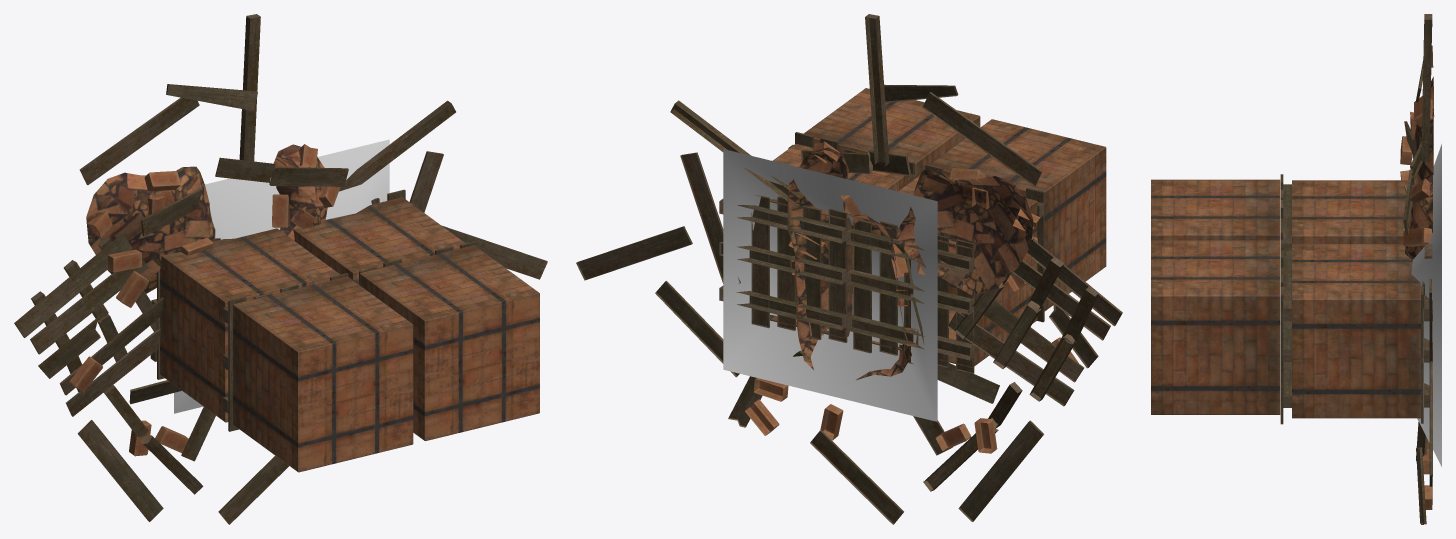
File: hd_envAM_064_BlocksBrick_03.glb
The picture shows the model from 3 angles, left to right: view 1: azimuth 30°, elevation 25°; view 2: azimuth 150°, elevation 25°; view 3: azimuth 270°, elevation 25°; orthographic projection.
Parts seen in each view (by area): view 1: set_0_group_2, set_0_group_1, set_0_group_0; view 2: set_0_group_1, set_0_group_2, set_0_group_0; view 3: set_0_group_2, set_0_group_1, set_0_group_0.
Part boxes in pixels (x1,y1,x2,y2): set_0_group_2: (150,189,539,472); set_0_group_1: (14,14,547,524); set_0_group_0: (174,139,389,413); set_0_group_1: (576,14,1122,524); set_0_group_2: (719,88,1106,373); set_0_group_0: (723,149,937,421); set_0_group_2: (1151,174,1432,424); set_0_group_1: (1400,14,1434,524); set_0_group_0: (1411,144,1441,466).
Size of the model in its own units: 4.7 by 4.19 by 2.21.
Materials: 3 (2 with a texture image).
